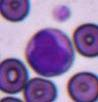M: (24, 27, 74, 78)
